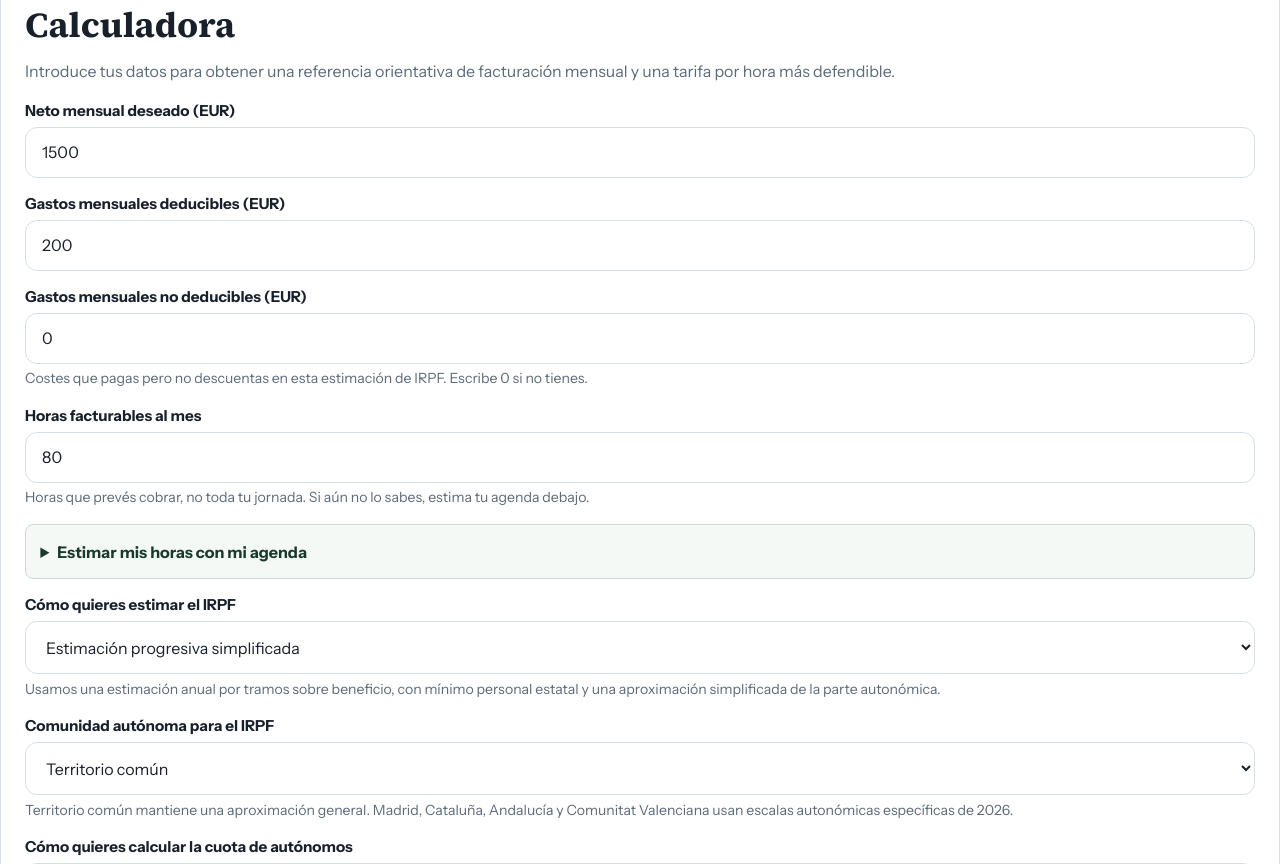
Test case: billable-hours helper in the main calculator › accepts Spanish decimals and Enter estimates the agenda without submitting the main form
Click the heading "Estimar mis horas con mi agenda" at coordinates (182, 552), box [57,542,307,562]
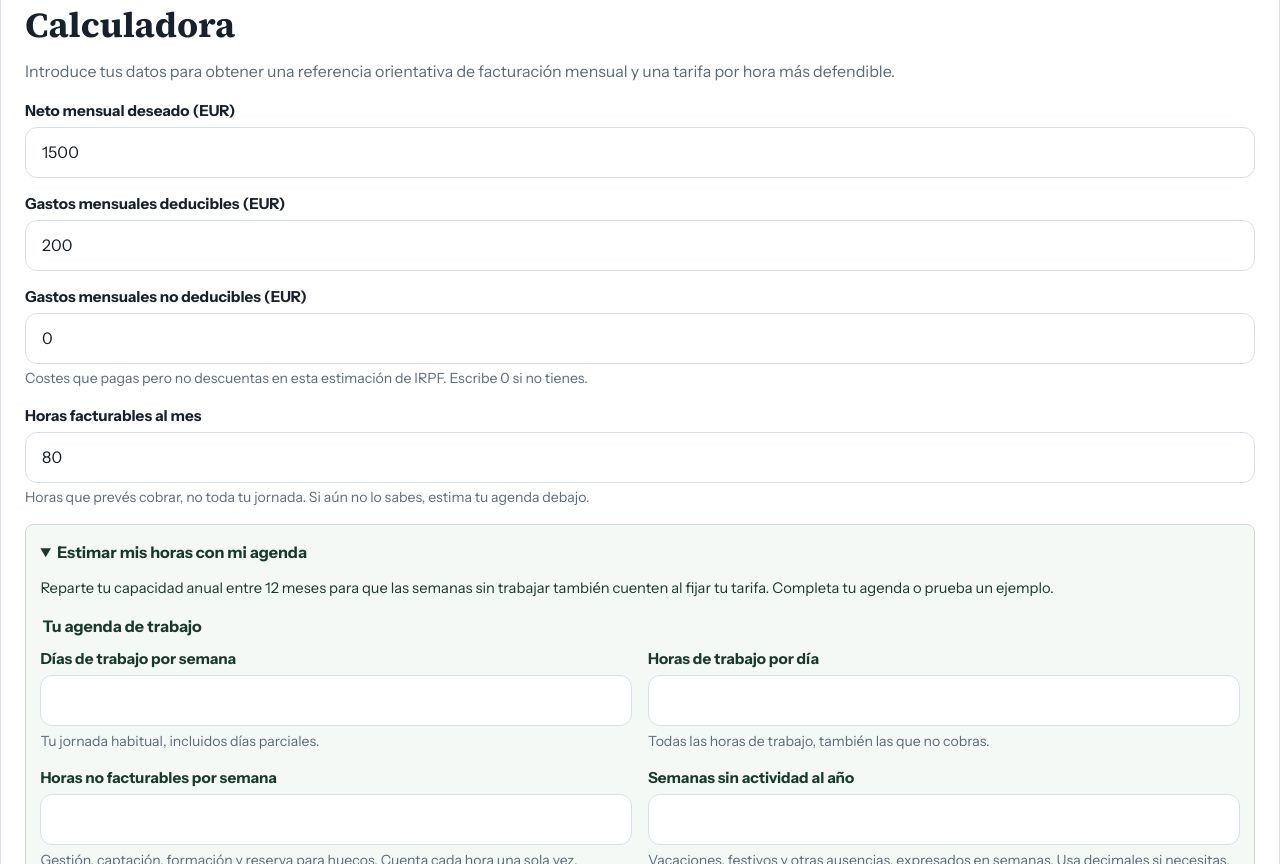
Type "4,5" into the field labelled "Días de trabajo por semana" at coordinates (336, 700), box [40,675,632,726]
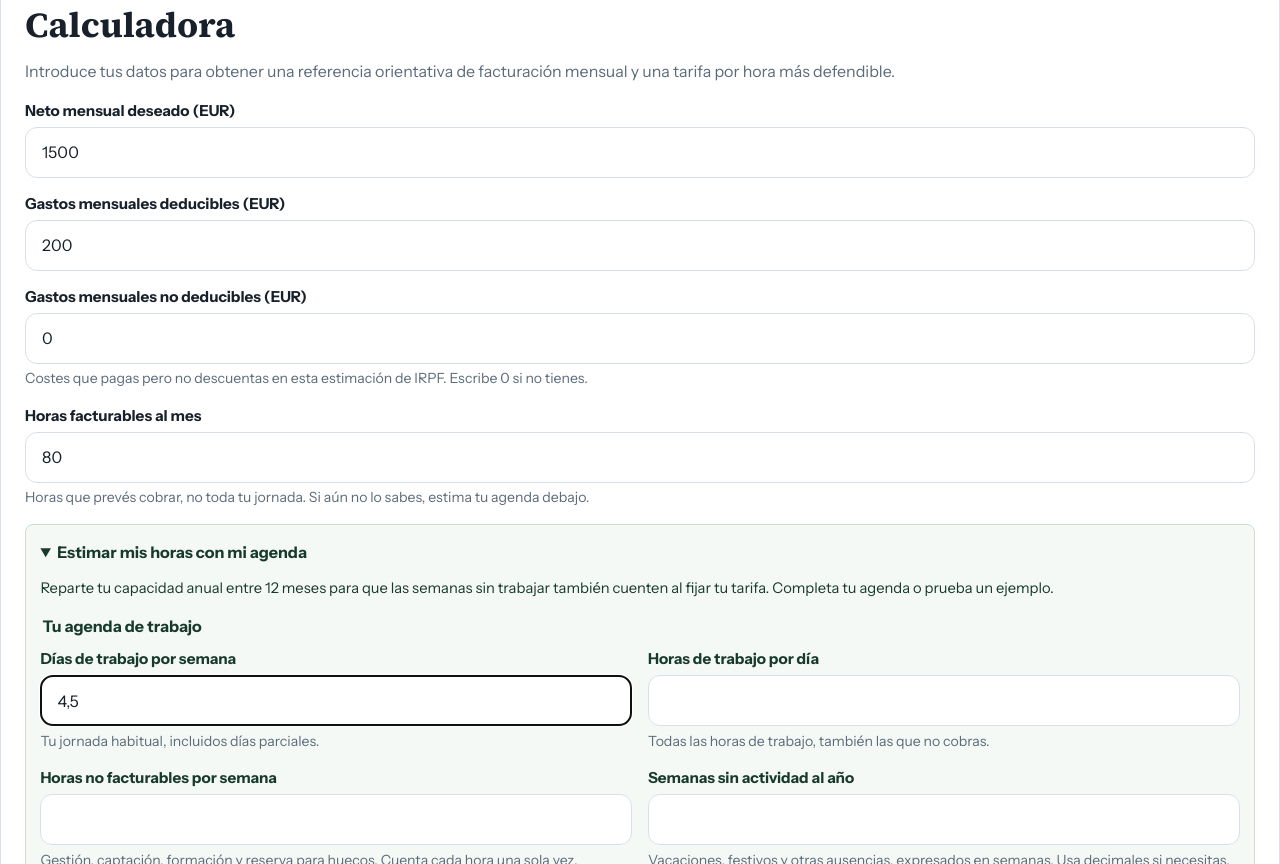
Type "6,5" into the field labelled "Horas de trabajo por día" at coordinates (944, 700), box [648,675,1240,726]
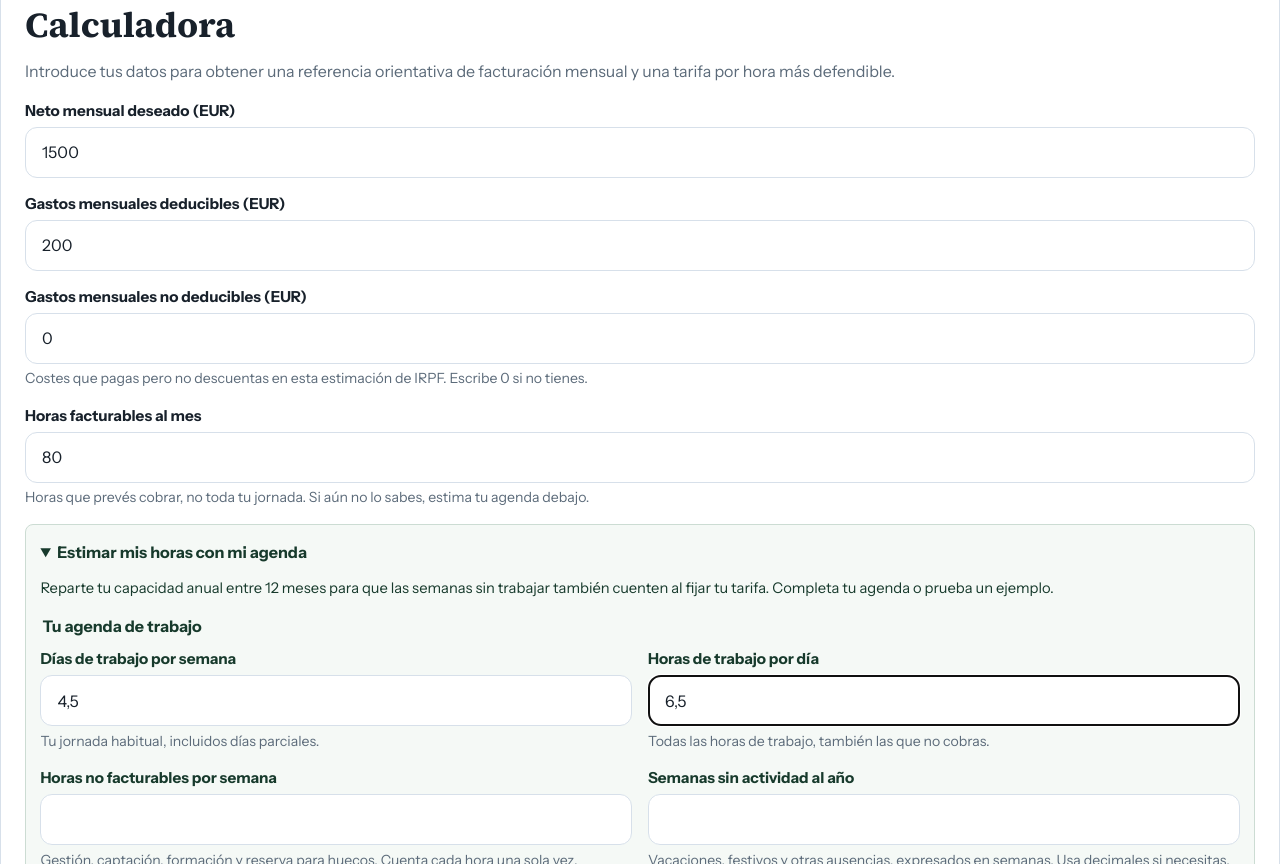
Type "8,25" into the field labelled "Horas no facturables por semana" at coordinates (336, 819), box [40,794,632,845]
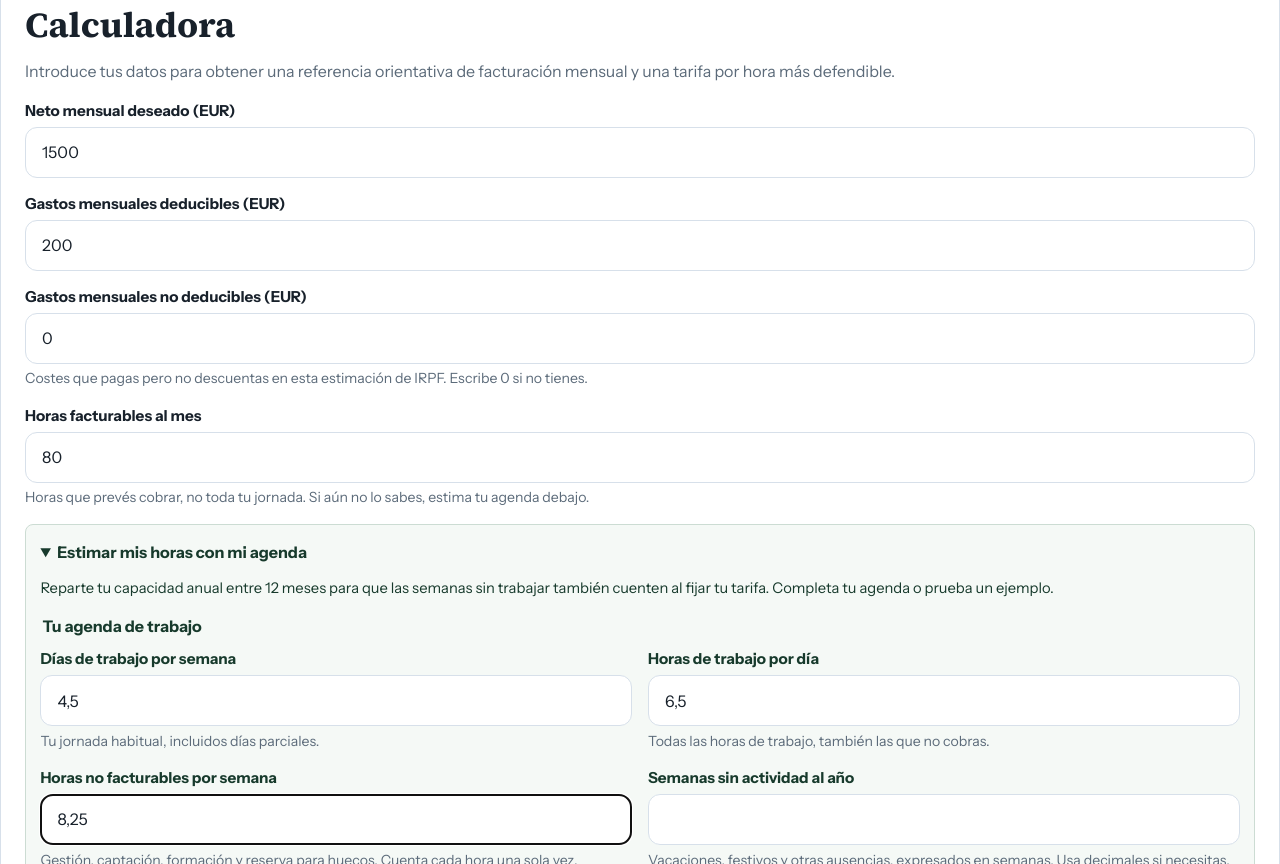
Type "5,5" into the field labelled "Semanas sin actividad al año" at coordinates (944, 819), box [648,794,1240,845]
Then press Enter
(page scrolled)
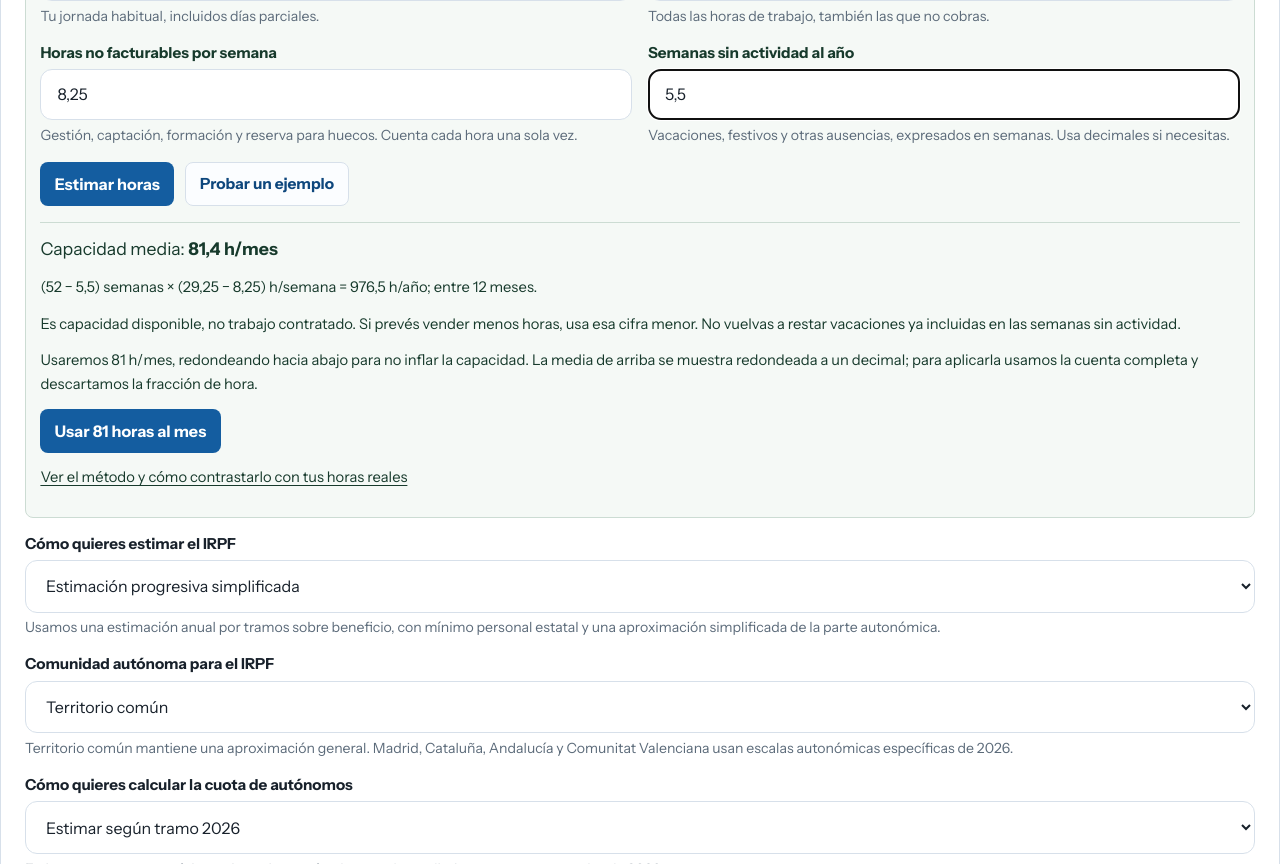
Check: the button "Usar 81 horas al mes" is shown, box [40,409,221,453]
